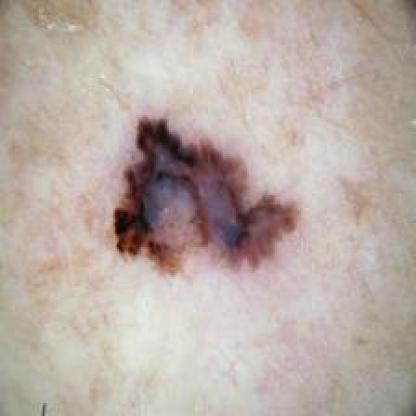malignant: (104, 112, 308, 282)
